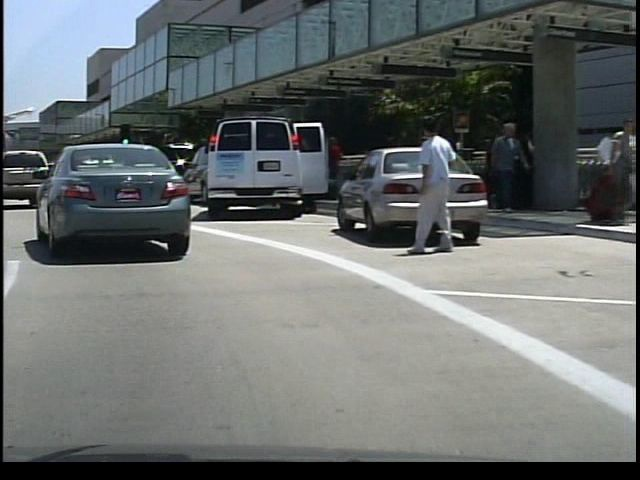person: (401, 111, 451, 256), (594, 113, 635, 221), (487, 118, 529, 215), (320, 132, 342, 199)
